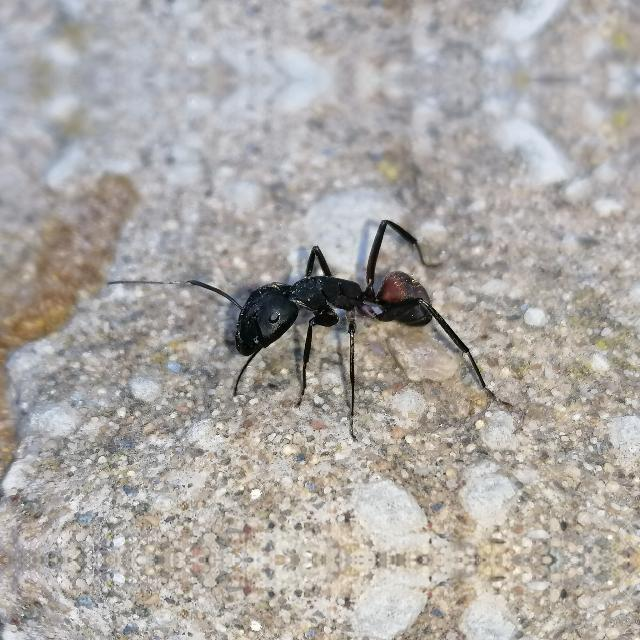Camponotus: (173, 224, 472, 380)
